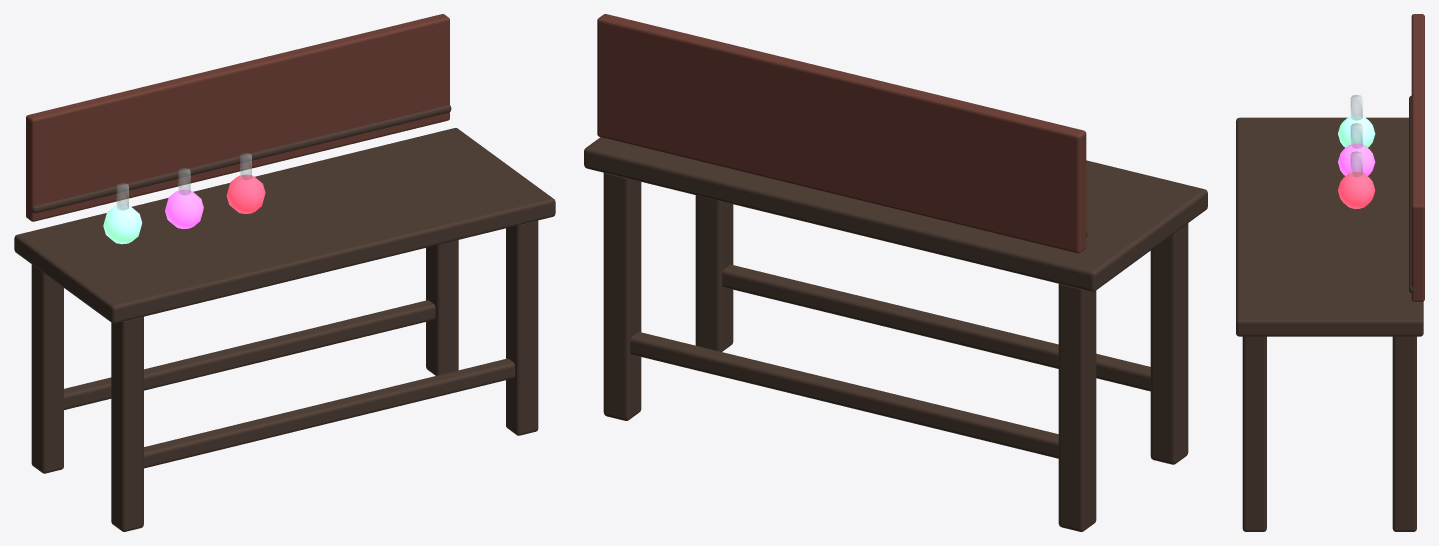
Rendered from lab_bench_apparatus_bench.glb.
The picture shows the model from 3 angles, left to right: view 1: azimuth 30°, elevation 25°; view 2: azimuth 150°, elevation 25°; view 3: azimuth 270°, elevation 25°; orthographic projection. The views are drawn at different scales.
Parts seen in each view (by area): view 1: GD_lab_bench_apparatus_bench__m0, GD_lab_bench_apparatus_bench__m3, GD_lab_bench_apparatus_bench__m4, GD_lab_bench_apparatus_bench__m2, GD_lab_bench_apparatus_bench__m5, GD_lab_bench_apparatus_bench__m1; view 2: GD_lab_bench_apparatus_bench__m0, GD_lab_bench_apparatus_bench__m3; view 3: GD_lab_bench_apparatus_bench__m0, GD_lab_bench_apparatus_bench__m3, GD_lab_bench_apparatus_bench__m2, GD_lab_bench_apparatus_bench__m1, GD_lab_bench_apparatus_bench__m4, GD_lab_bench_apparatus_bench__m5.
Boxes of the visible parts, <box> form: GD_lab_bench_apparatus_bench__m0: <box>14,105,555,531</box>; GD_lab_bench_apparatus_bench__m3: <box>26,14,449,221</box>; GD_lab_bench_apparatus_bench__m4: <box>103,204,142,244</box>; GD_lab_bench_apparatus_bench__m2: <box>226,174,265,213</box>; GD_lab_bench_apparatus_bench__m5: <box>165,189,203,228</box>; GD_lab_bench_apparatus_bench__m1: <box>116,153,251,209</box>; GD_lab_bench_apparatus_bench__m0: <box>584,137,1207,531</box>; GD_lab_bench_apparatus_bench__m3: <box>597,14,1086,253</box>; GD_lab_bench_apparatus_bench__m0: <box>1236,95,1423,531</box>; GD_lab_bench_apparatus_bench__m3: <box>1411,14,1424,301</box>; GD_lab_bench_apparatus_bench__m2: <box>1338,172,1375,208</box>; GD_lab_bench_apparatus_bench__m1: <box>1350,95,1362,176</box>; GD_lab_bench_apparatus_bench__m4: <box>1338,115,1375,147</box>; GD_lab_bench_apparatus_bench__m5: <box>1338,143,1375,175</box>.
Bounding box in the file's own units: 1.8 × 1.35 × 0.705.
